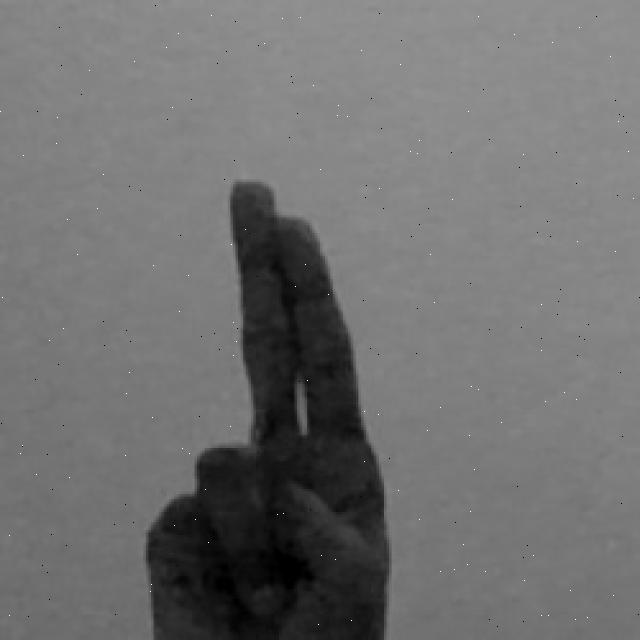U: (138, 171, 396, 640)
